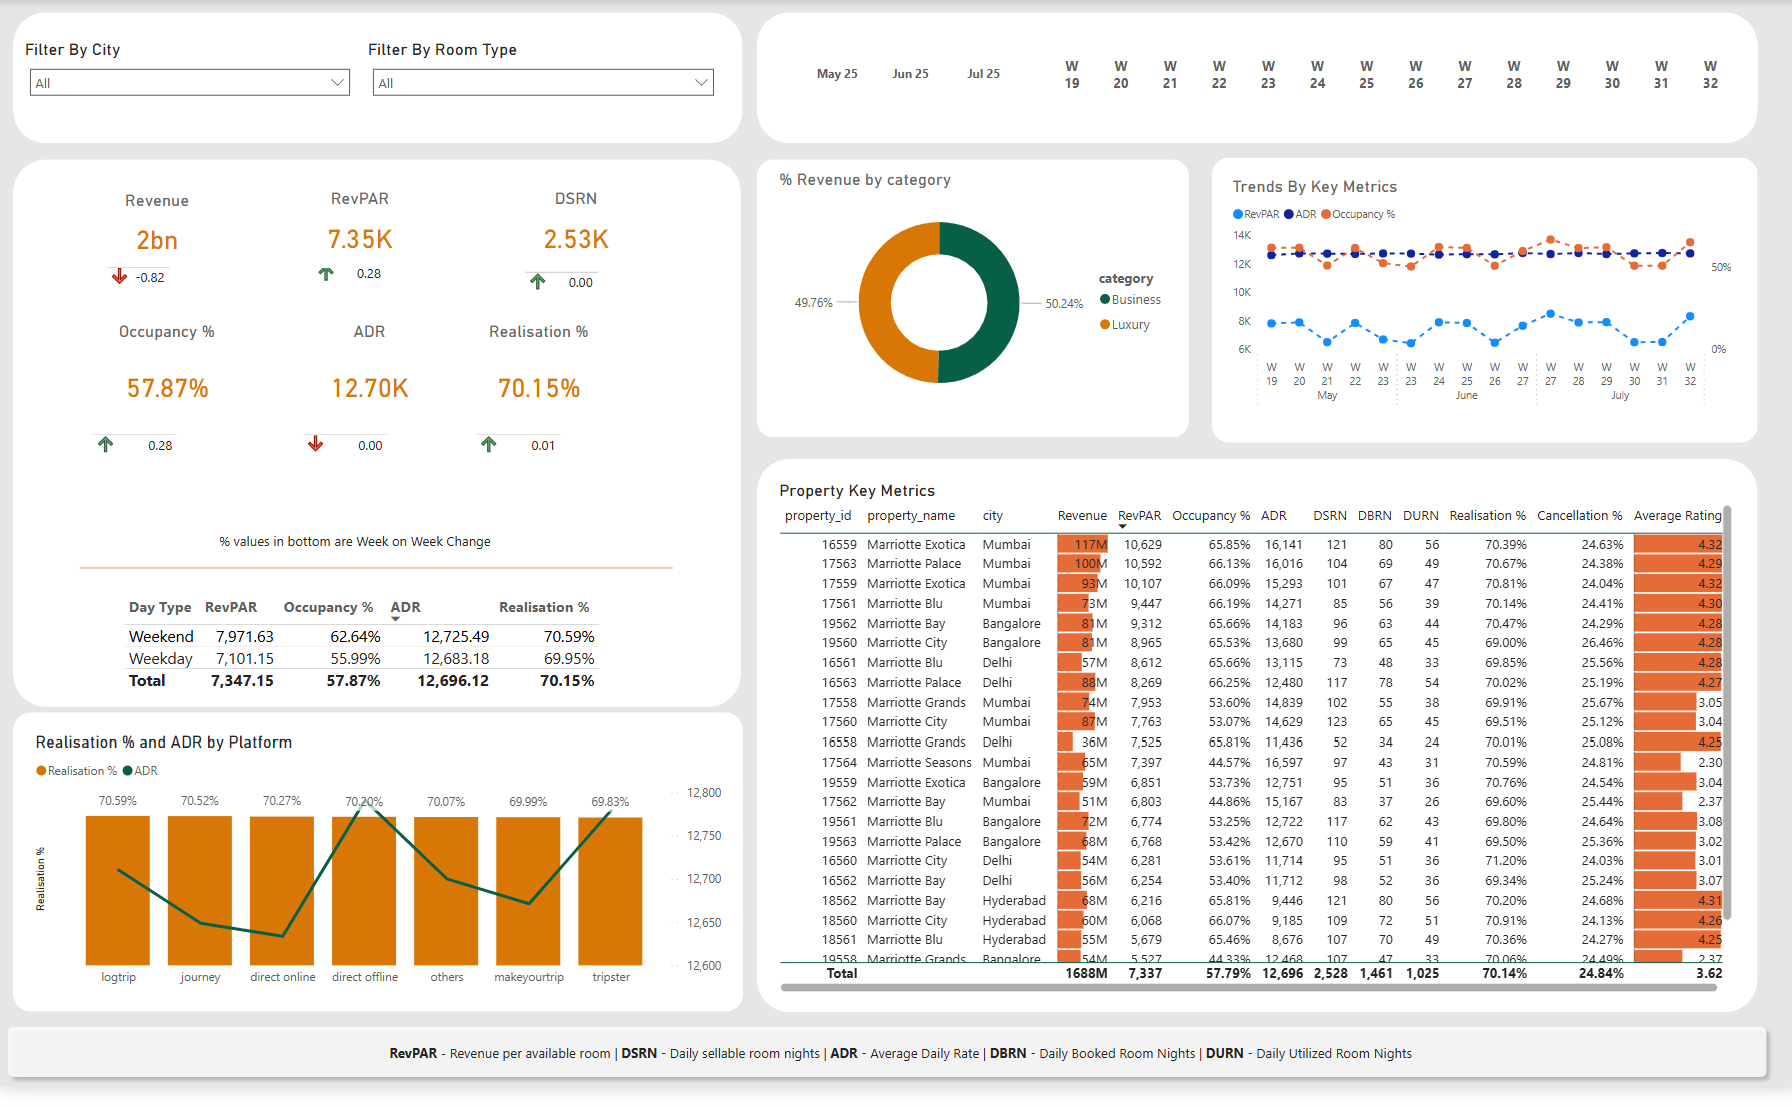

The page's visual inventory and layout, read from the dashboard file:
{"tool":"powerbi","page":{"name":"Page 1","canvas":[1825,1100],"ordinal":0},"visuals":[{"type":"shape","box":[14,722.4,739.8,302.6],"z":0},{"type":"shape","box":[767.8,464.6,1014.3,560.4],"z":1000},{"type":"shape","box":[1228.9,159.6,553.3,289.1],"z":2000},{"type":"shape","box":[767.8,161.4,438,282],"z":3000},{"type":"shape","box":[14.2,12.4,739.5,133],"z":4000},{"type":"shape","box":[767.8,12.4,1014.3,133],"z":5000},{"type":"slicer","title":"Filter By Room Type","fields":{"Values":["dim_date.mmm yy"]},"box":[787.4,35.5,270.5,78.3],"z":5000,"group":"g2"},{"type":"tableEx","fields":{"Values":["key_measures.Revenue WoW change %"]},"box":[102.9,243.9,114.9,54.2],"z":5000,"group":"g1"},{"type":"shape","box":[14.2,161.4,737.7,555.1],"z":6000},{"type":"card","title":"Revenue","fields":{"Values":["key_measures.Revenue"]},"box":[49.7,192.7,221.1,77.5],"z":6000,"group":"g1"},{"type":"slicer","title":"Filter By Room Type","fields":{"Values":["dim_date.week no"]},"box":[1038,42,745,65],"z":7000,"group":"g2"},{"type":"tableEx","fields":{"Values":["key_measures.Revpar WoW change %"]},"box":[312.9,225,134.6,67.4],"z":7000,"group":"g1"},{"type":"tableEx","title":"Property Key Metrics","fields":{"Values":["dim_hotels.property_id","dim_hotels.property_name","dim_hotels.city","key_measures.Revenue","key_measures.RevPAR","key_measures.Occupancy %","key_measures.ADR","key_measures.DSRN","key_measures.DBRN","key_measures.DURN","key_measures.Realisation %","key_measures.Cancellation %"]},"box":[785.6,487.7,975.3,521.4],"z":7000},{"type":"slicer","title":"Filter By City","fields":{"Values":["dim_hotels.city"]},"box":[21.3,40.8,344,72.7],"z":8000},{"type":"card","title":"RevPAR","fields":{"Values":["key_measures.RevPAR"]},"box":[255.8,191.5,220.6,79.9],"z":8000,"group":"g1"},{"type":"slicer","title":"Filter By Room Type","fields":{"Values":["dim_rooms.room_class"]},"box":[368.9,40.8,365.3,78],"z":9000},{"type":"tableEx","fields":{"Values":["key_measures.DSRN WoW change %"]},"box":[526.3,233.7,148,74.4],"z":9000,"group":"g1"},{"type":"donutChart","title":"% Revenue by category","fields":{"Category":["dim_hotels.category"],"Y":["key_measures.Occupancy %"]},"box":[785.6,172,407.9,250],"z":10000},{"type":"tableEx","fields":{"Values":["key_measures.Occupancy WoW change %"]},"box":[88.4,399.8,166.6,98.4],"z":10000,"group":"g1"},{"type":"lineChart","title":"Trends By Key Metrics","fields":{"Category":["dim_date.mmm yy.Variation.Date Hierarchy.Month","dim_date.week no"],"Y":["key_measures.RevPAR","key_measures.ADR"],"Y2":["key_measures.Occupancy %"]},"box":[1244.9,179.1,516,242.9],"z":11000},{"type":"tableEx","fields":{"Values":["key_measures.ADR WoW change %"]},"box":[301.3,399.8,161.4,88],"z":11000,"group":"g1"},{"type":"tableEx","fields":{"Values":["key_measures.Realisation WoW change %"]},"box":[476.2,398.9,149.3,81.3],"z":12000,"group":"g1"},{"type":"lineStackedColumnComboChart","title":"Realisation % and ADR by Platform","fields":{"Category":["fact_bookings.booking_platform"],"Y":["key_measures.Realisation %"],"Y2":["key_measures.ADR"]},"box":[31.5,741.6,704.9,265.9],"z":12000},{"type":"card","title":"Occupancy %","fields":{"Values":["key_measures.Occupancy %"]},"box":[60.9,326.9,219.8,112.3],"z":13000,"group":"g1"},{"type":"tableEx","fields":{"Values":["dim_date.day type","key_measures.Rev Par","key_measures.Occupancy %","key_measures.ADR","key_measures.Realisation %"]},"box":[120.6,599.4,505.4,117],"z":13000},{"type":"group","id":"g1","title":"Group 1","box":[49.7,191.5,641.9,306.8],"z":14000},{"type":"card","title":"Realisation %","fields":{"Values":["key_measures.Realisation %"]},"box":[437,326.9,221.6,112.3],"z":14000,"group":"g1"},{"type":"textbox","box":[218.1,533.8,328.1,35.5],"z":15000},{"type":"shape","box":[81.6,569.2,601.2,12.4],"z":16000},{"type":"group","id":"g2","title":"Group 2","box":[787.4,35.5,994.8,78],"z":17000},{"type":"card","title":"DSRN","fields":{"Values":["key_measures.DSRN"]},"box":[476.2,191.6,215.4,79.4],"z":17000,"group":"g1"},{"type":"shape","box":[0,1030.3,1799.9,69.2],"z":18000},{"type":"textbox","box":[367.7,1051.2,1089.6,35],"z":19000},{"type":"card","title":"ADR","fields":{"Values":["key_measures.ADR"]},"box":[277.3,326.9,197.5,112.3],"z":20000,"group":"g1"}]}

Visuals, with their boxes in screenshot pixels (x1, y1, x2, y2), scaled from the page's 1825x1100 canvas onto the 1792x1107 screenshot:
shape: <bbox>14, 727, 740, 1032</bbox>
shape: <bbox>754, 468, 1750, 1032</bbox>
shape: <bbox>1207, 161, 1750, 452</bbox>
shape: <bbox>754, 162, 1184, 446</bbox>
shape: <bbox>14, 12, 740, 146</bbox>
shape: <bbox>754, 12, 1750, 146</bbox>
"Filter By Room Type" slicer: <bbox>773, 36, 1039, 115</bbox>
tableEx - key_measures.Revenue WoW change %: <bbox>101, 245, 214, 300</bbox>
shape: <bbox>14, 162, 738, 721</bbox>
"Revenue" card: <bbox>49, 194, 266, 272</bbox>
"Filter By Room Type" slicer: <bbox>1019, 42, 1751, 108</bbox>
tableEx - key_measures.Revpar WoW change %: <bbox>307, 226, 439, 294</bbox>
"Property Key Metrics" tableEx: <bbox>771, 491, 1729, 1016</bbox>
"Filter By City" slicer: <bbox>21, 41, 359, 114</bbox>
"RevPAR" card: <bbox>251, 193, 468, 273</bbox>
"Filter By Room Type" slicer: <bbox>362, 41, 721, 120</bbox>
tableEx - key_measures.DSRN WoW change %: <bbox>517, 235, 662, 310</bbox>
"% Revenue by category" donutChart: <bbox>771, 173, 1172, 425</bbox>
tableEx - key_measures.Occupancy WoW change %: <bbox>87, 402, 250, 501</bbox>
"Trends By Key Metrics" lineChart: <bbox>1222, 180, 1729, 425</bbox>
tableEx - key_measures.ADR WoW change %: <bbox>296, 402, 454, 491</bbox>
tableEx - key_measures.Realisation WoW change %: <bbox>468, 401, 614, 483</bbox>
"Realisation % and ADR by Platform" lineStackedColumnComboChart: <bbox>31, 746, 723, 1014</bbox>
"Occupancy %" card: <bbox>60, 329, 276, 442</bbox>
tableEx - dim_date.day type x key_measures.Rev Par: <bbox>118, 603, 615, 721</bbox>
"Group 1" group: <bbox>49, 193, 679, 501</bbox>
"Realisation %" card: <bbox>429, 329, 647, 442</bbox>
textbox: <bbox>214, 537, 536, 573</bbox>
shape: <bbox>80, 573, 670, 585</bbox>
"Group 2" group: <bbox>773, 36, 1750, 114</bbox>
"DSRN" card: <bbox>468, 193, 679, 273</bbox>
shape: <bbox>0, 1037, 1767, 1106</bbox>
textbox: <bbox>361, 1058, 1431, 1093</bbox>
"ADR" card: <bbox>272, 329, 466, 442</bbox>
